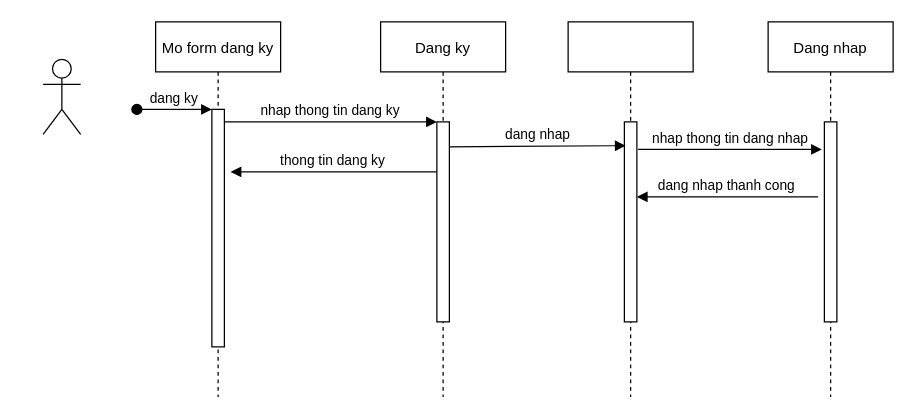
Some shapes in this 915 by 419 pixel diagram are drawn without their labels. The box of each missing label's shape, as (x1, y1, x2, y2) in pixels:
Form dang nhap: (567, 21, 693, 397)
Khach hang: (42, 58, 81, 134)
